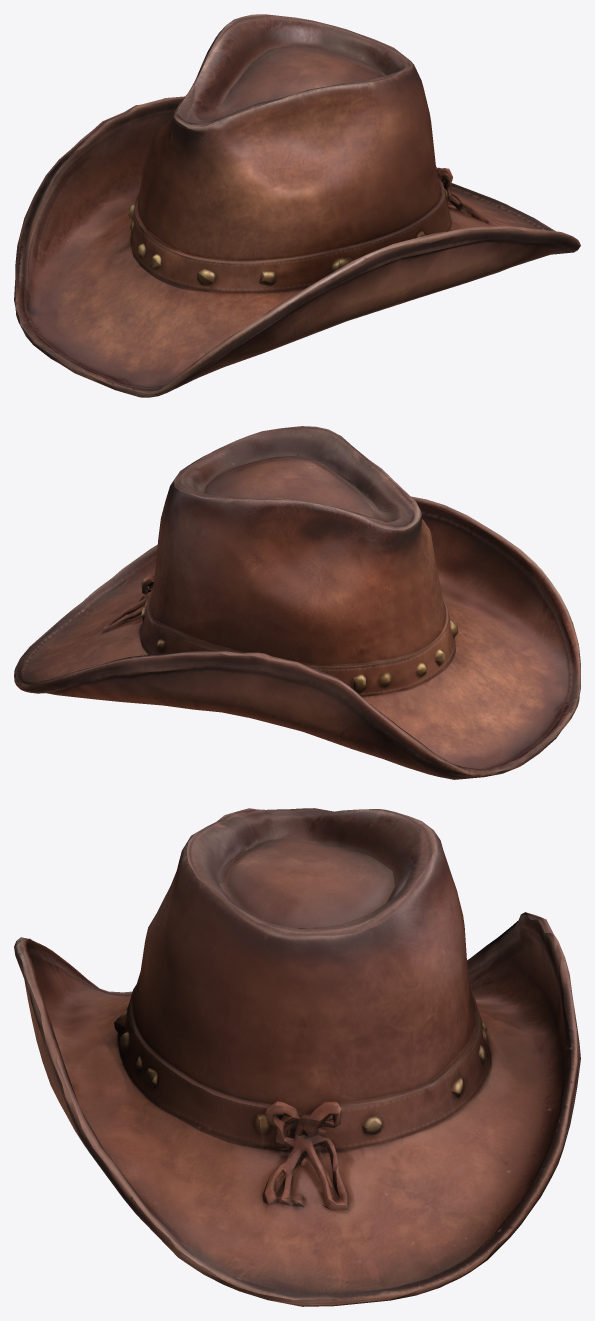
The model's file is cowboy_hat2.glb.
3 renders of one model, top to bottom at view 1: azimuth 30°, elevation 25°; view 2: azimuth 150°, elevation 25°; view 3: azimuth 270°, elevation 25°, orthographic. The views are drawn at different scales.
Visible parts, largest first — view 1: Object_4; view 2: Object_4; view 3: Object_4.
Boxes of the visible parts, x1,y1,x2,y2 form: Object_4: (14,14,580,397); Object_4: (14,426,580,779); Object_4: (14,808,580,1306).
Size of the model in its own units: 1 by 0.4621 by 0.7592.
Materials: 1 (1 with a texture image).
